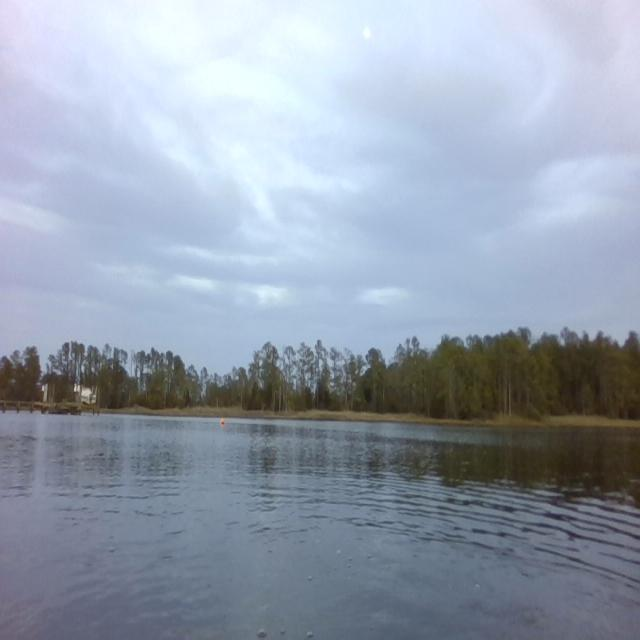Buoy: (218, 412, 227, 430)
